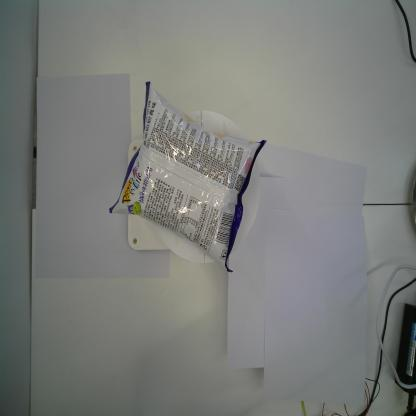Puffed Food: (108, 81, 267, 273)
